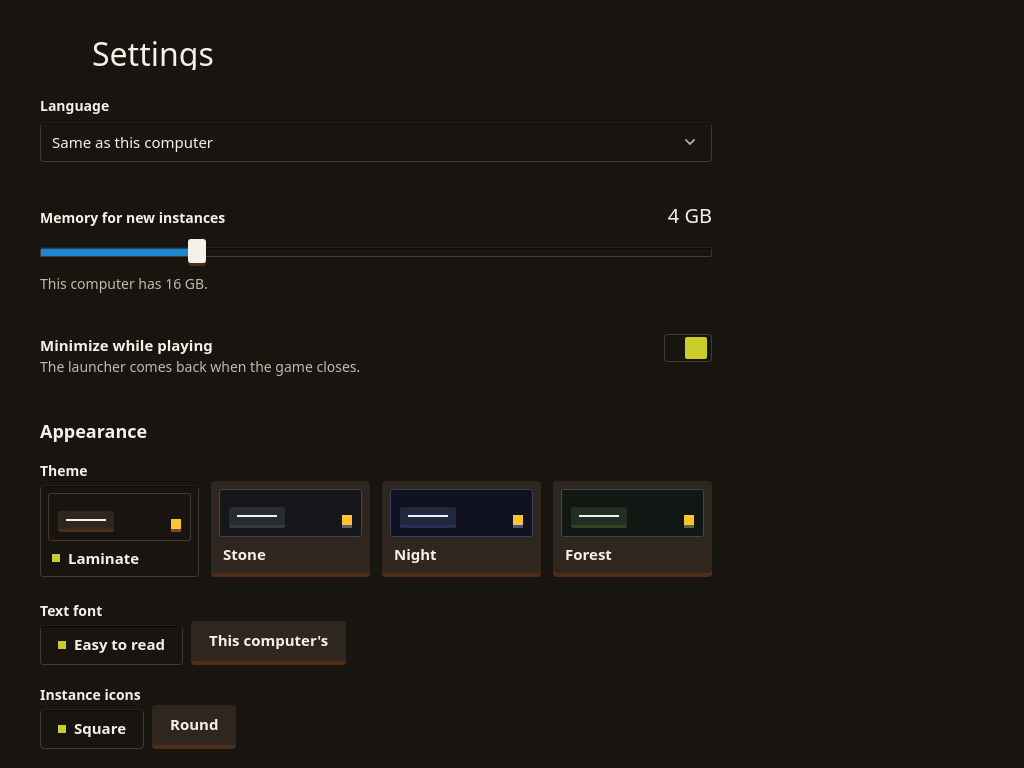
Test case: sends overlapping edits one after another so an older answer never wins
The image size is (1024, 768).
Click the switch named "Minimize while playing" at [688, 348], box [664,334,712,362]
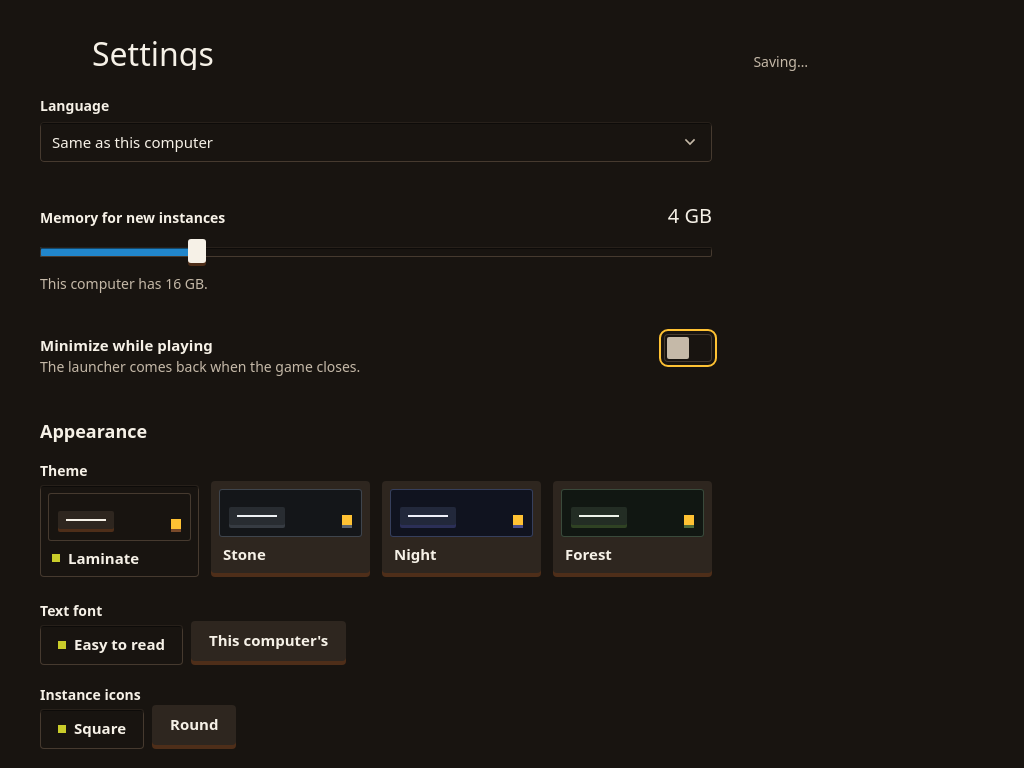
Note: A second edit while the first is still being saved waits its turn and carries both changes.
Select "Español" in the dropdown labelled "Language" at [376, 142], box [40,122,712,162]
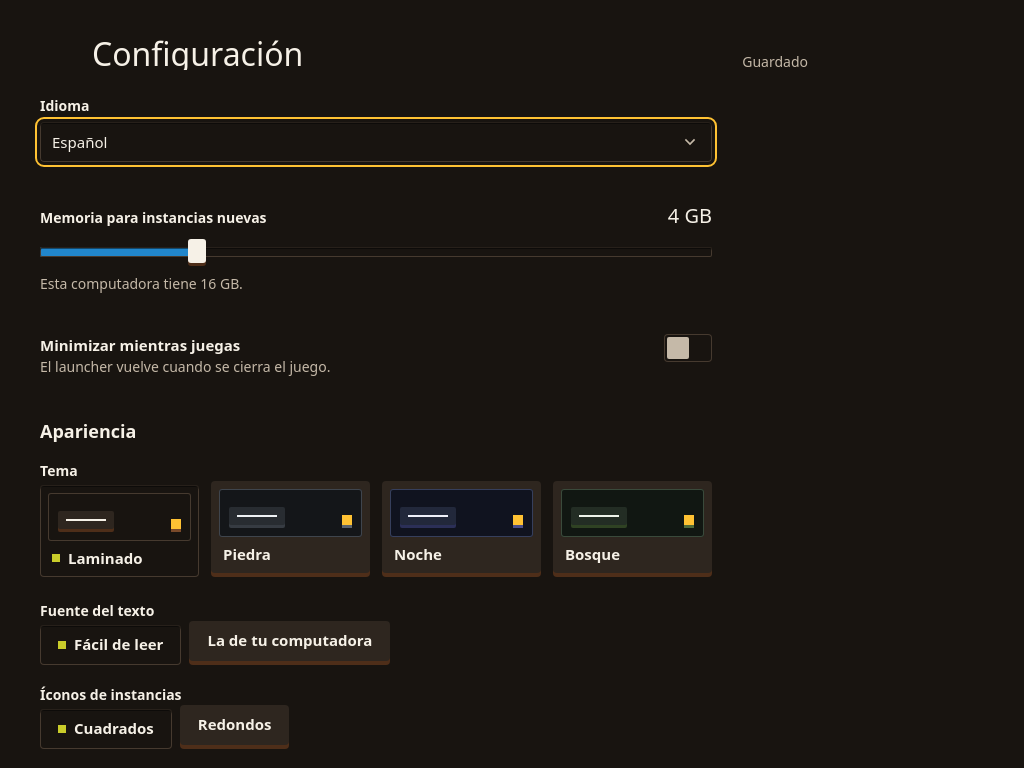
Check: the heading "Configuración" is shown, box [92,38,303,70]
Check: the message reads "Guardado", box [742,52,808,71]
